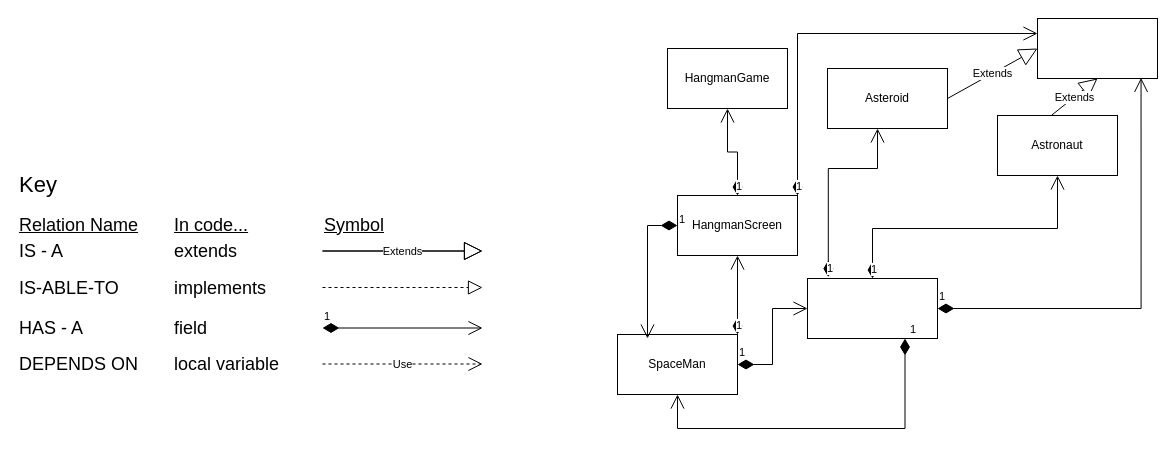
The diagram is 1176 pixels wide and 463 high, and some of its shapes have lost their labels. Here are the shapes that lost their labels. From the top down, the box of each, then its label:
(1036, 18, 1158, 78): Sprite
(806, 278, 938, 338): RunningGameScreen
